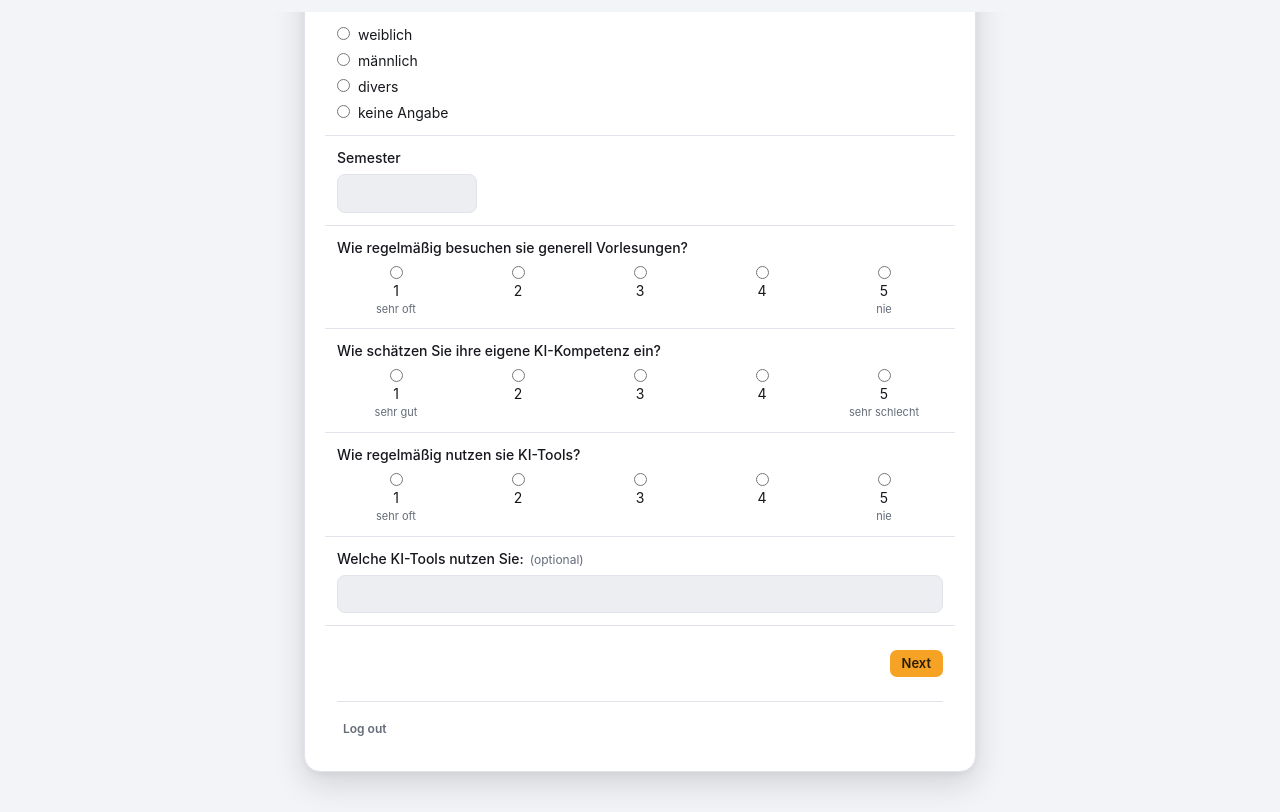
Test: App › study entry flow › goes back to the password screen when logging out of the survey
(page scrolled)
Click the button "Log out": (365, 729) [337,719,392,739]
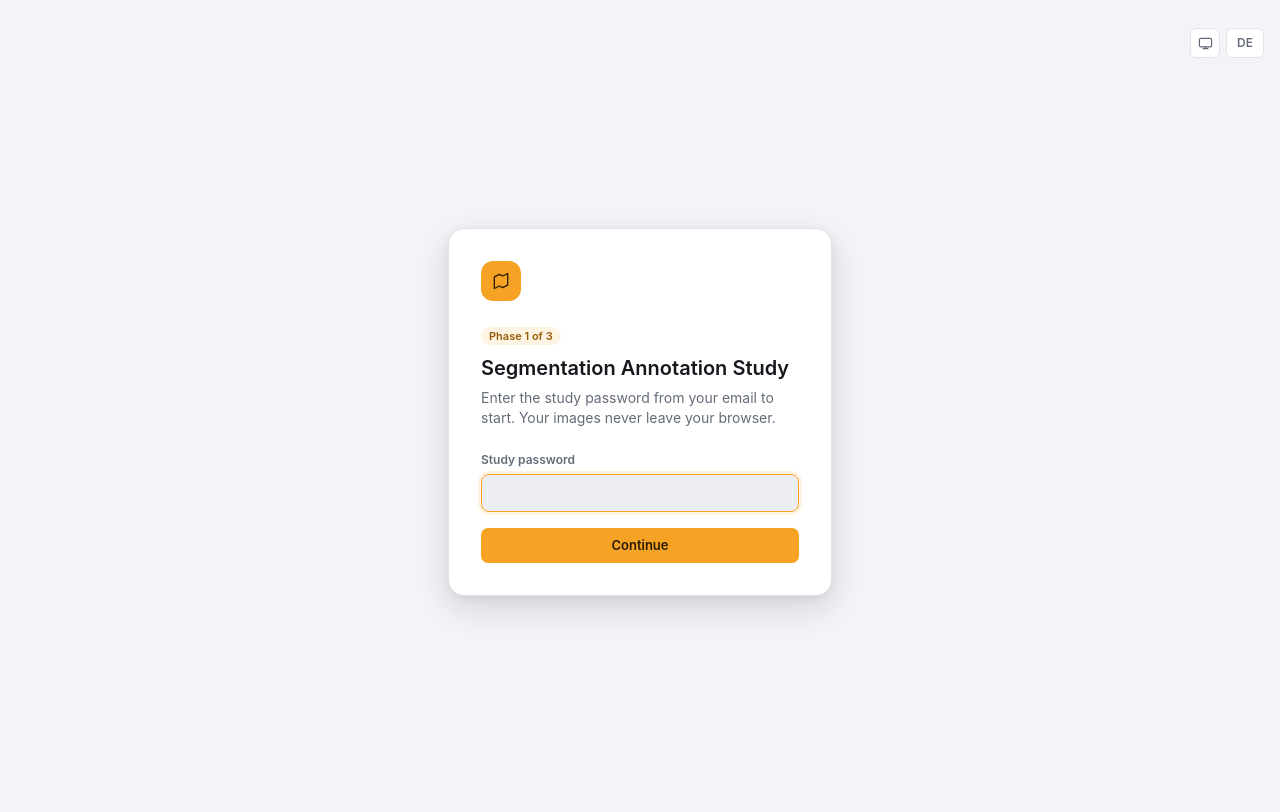
expect the password field labelled "Study password" is shown: met, box [481,474,799,512]
